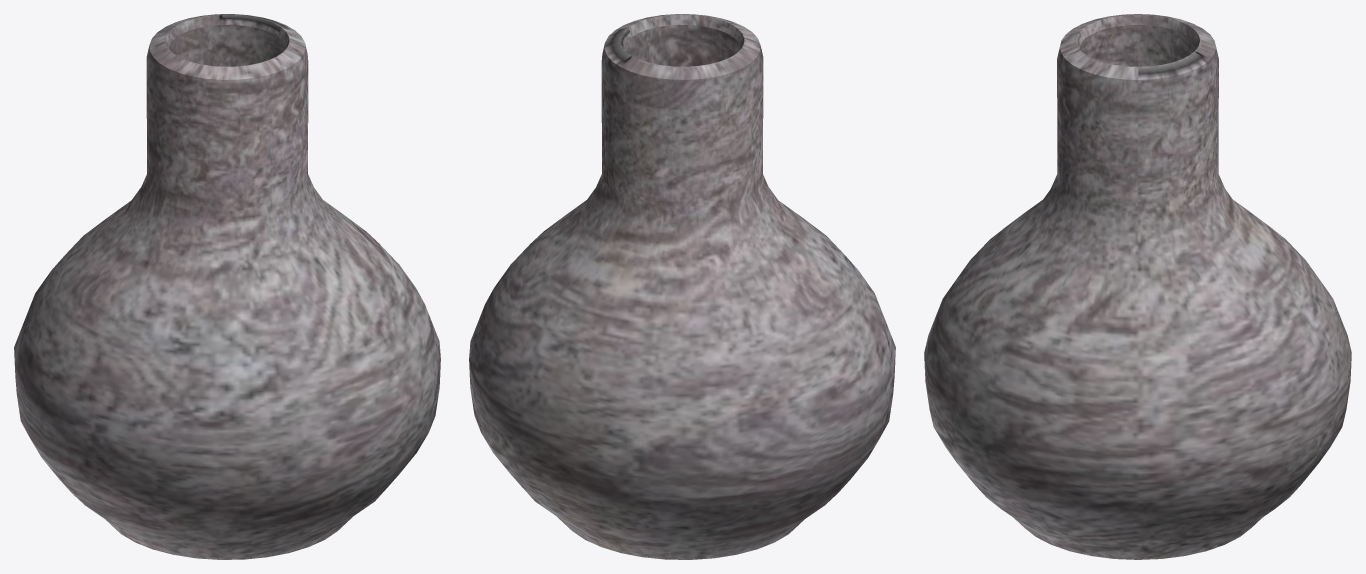
Rendered from vase.fbx.
3 renders of one model, left to right at view 1: azimuth 30°, elevation 25°; view 2: azimuth 150°, elevation 25°; view 3: azimuth 270°, elevation 25°, orthographic.
Visible parts, largest first — view 1: Line002; view 2: Line002; view 3: Line002.
Part boxes in pixels (x1=…): Line002: x1=14, y1=14, x2=440, y2=559; Line002: x1=469, y1=14, x2=895, y2=559; Line002: x1=924, y1=14, x2=1351, y2=559.
Size of the model in its own units: 16.16 by 19.62 by 16.16.
Materials: 1 (1 with a texture image).
